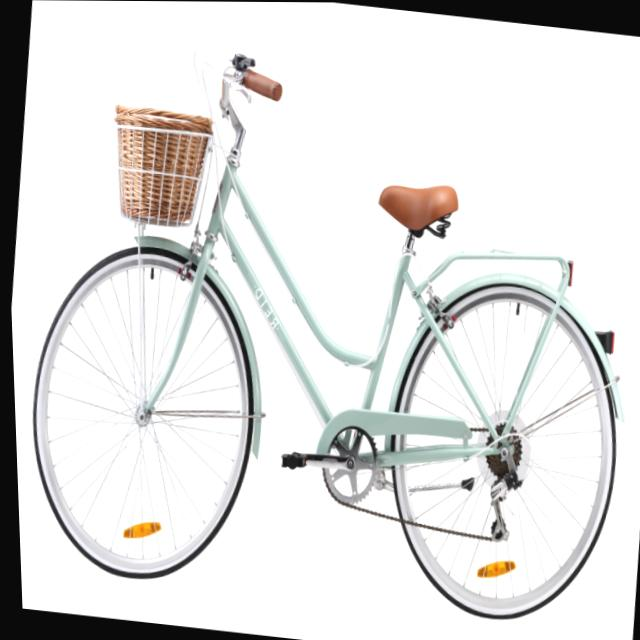urban-bike: (1, 22, 640, 637)
